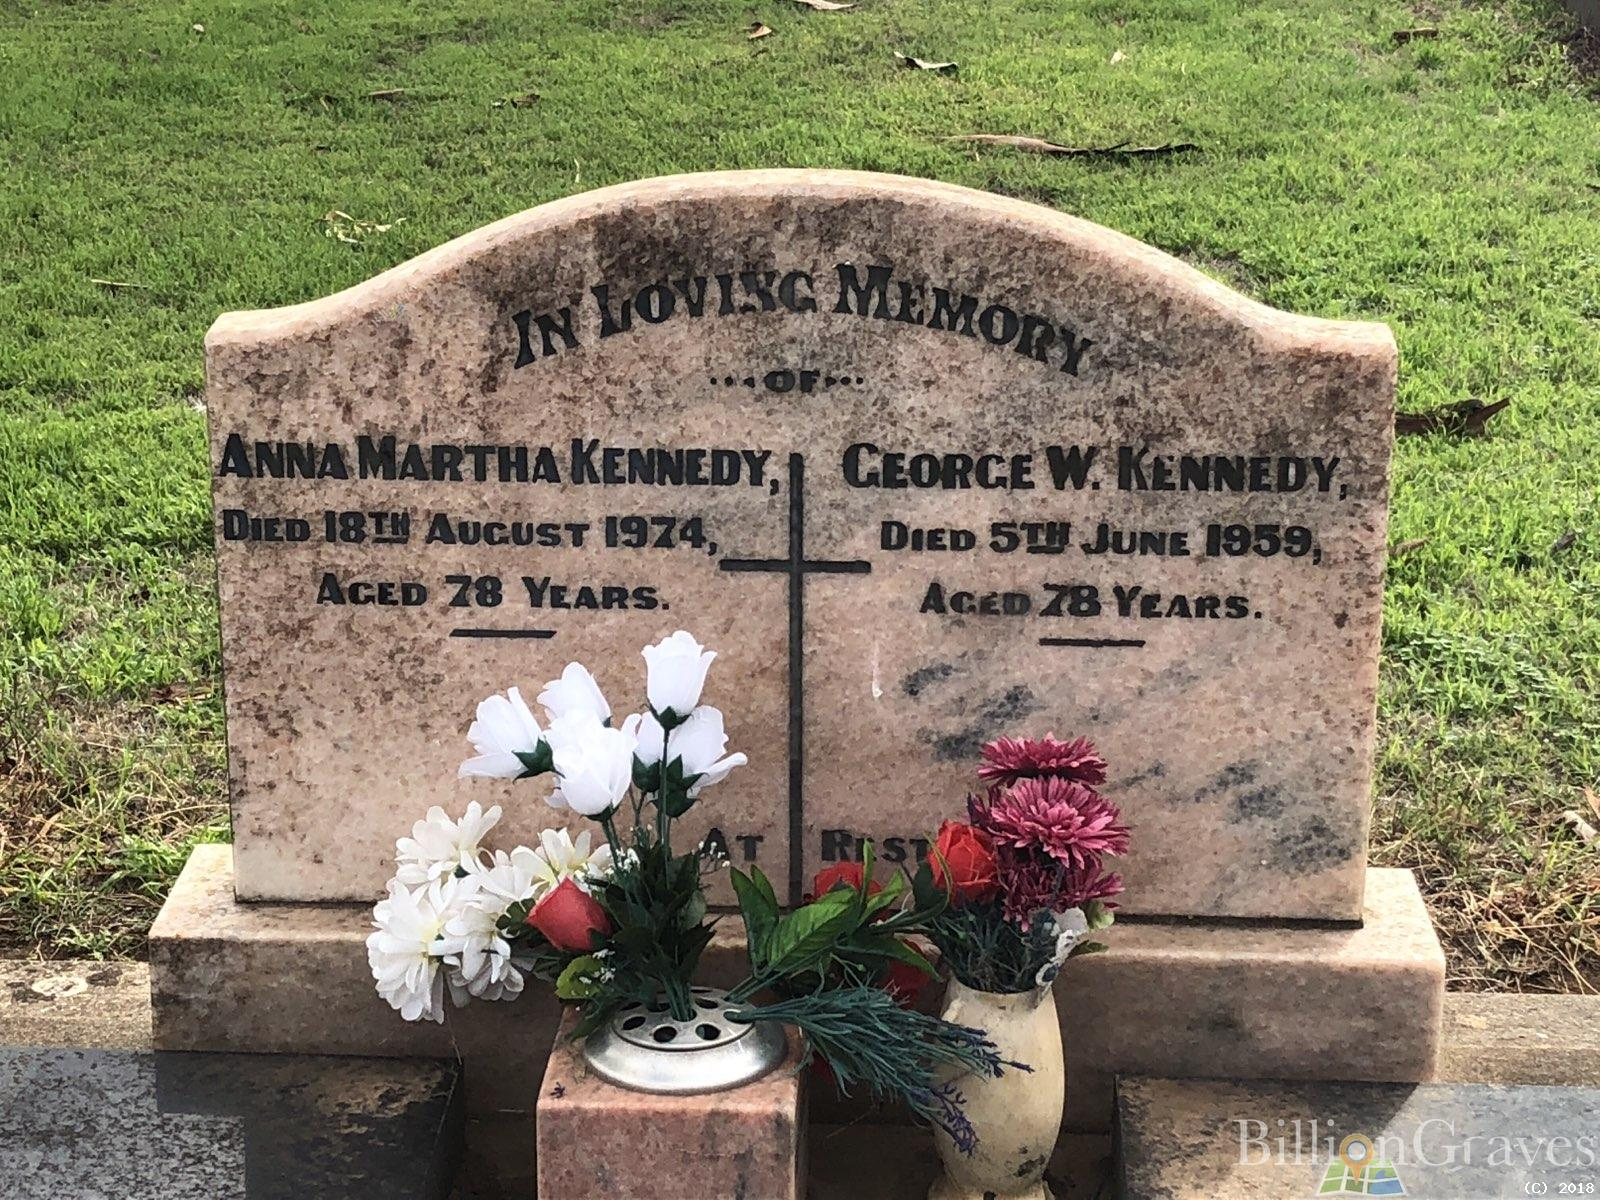upright: (152, 171, 1443, 1097)
